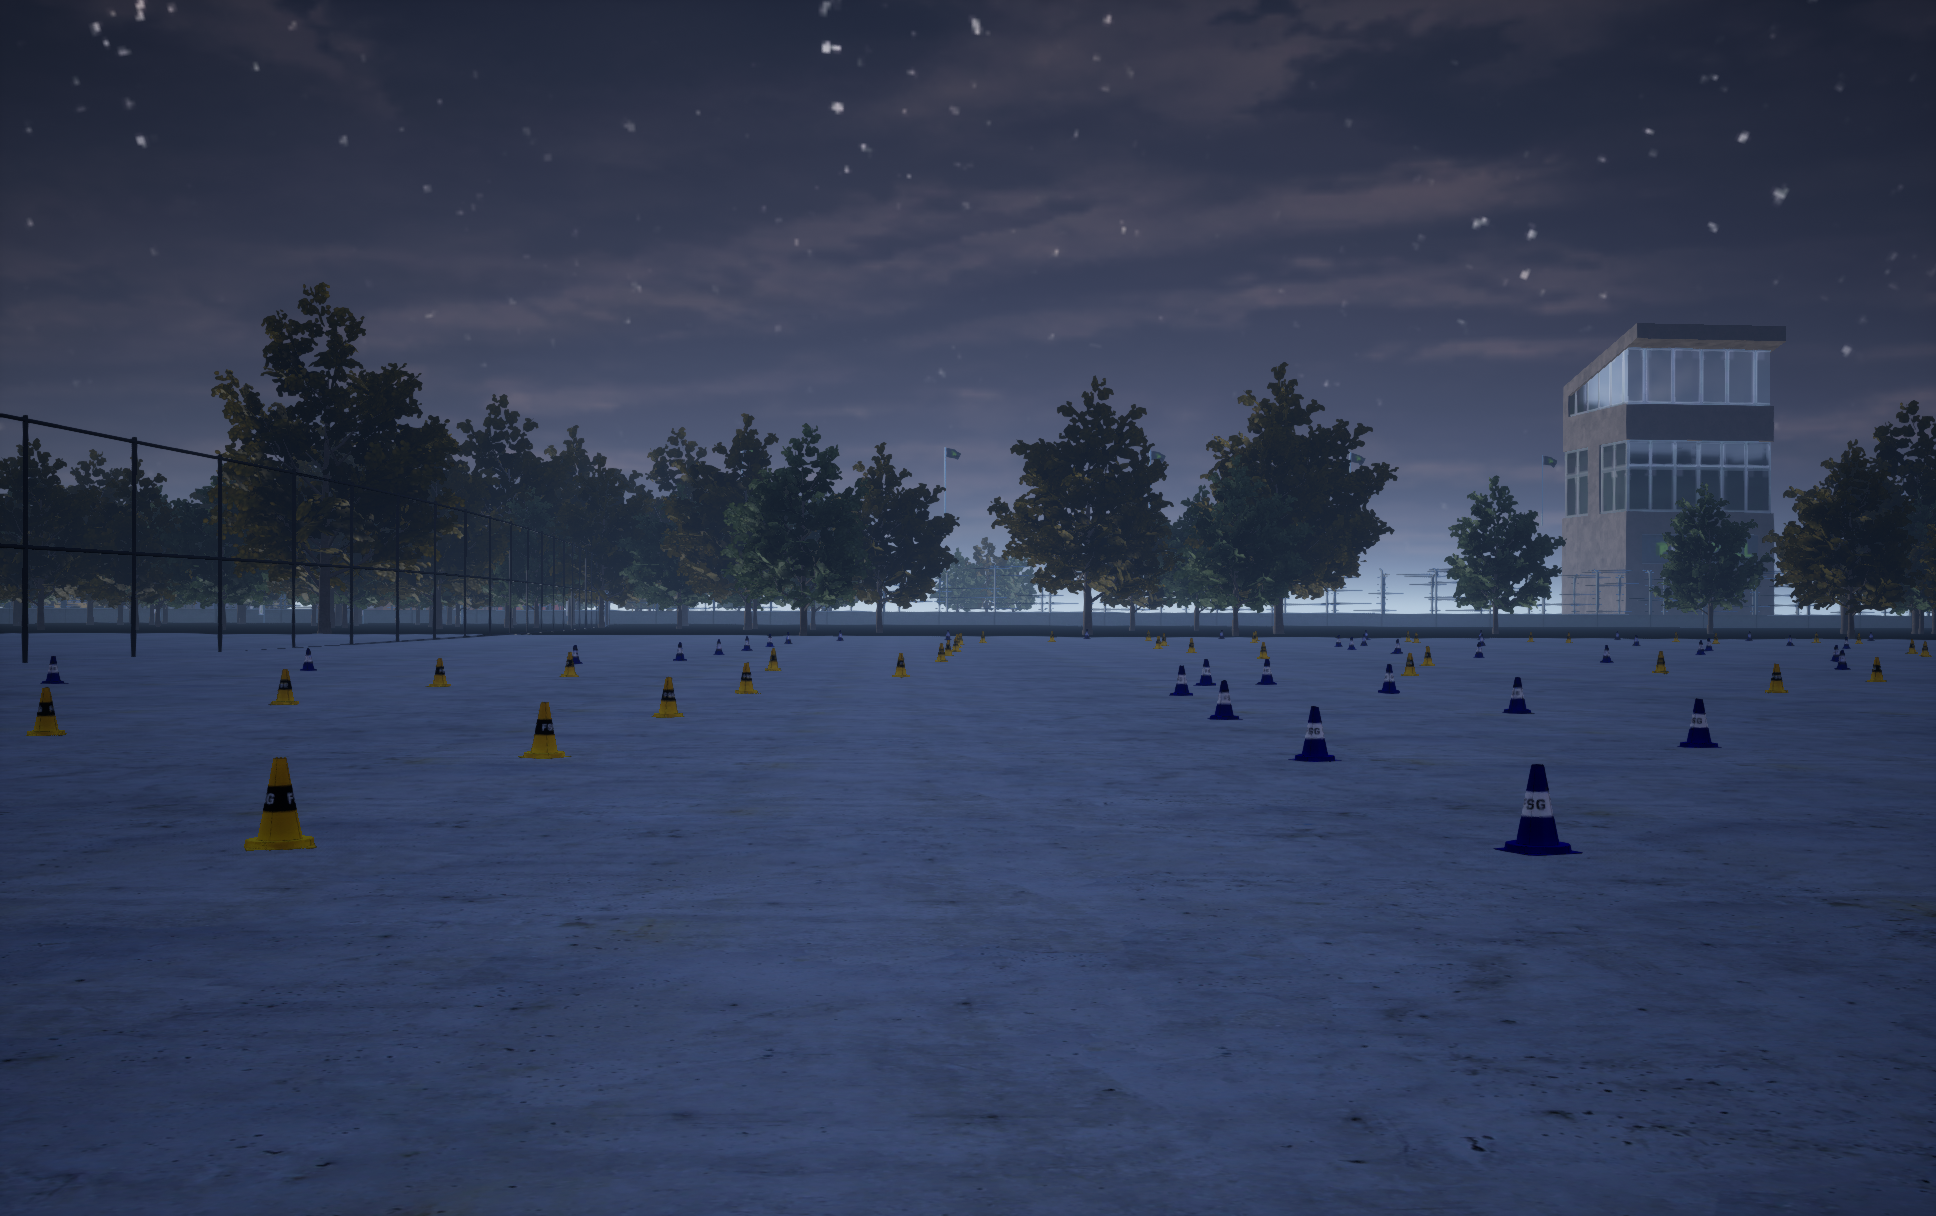blue: (244, 756, 317, 850), (518, 702, 572, 758), (27, 686, 66, 735), (651, 677, 684, 717), (268, 670, 298, 705), (735, 663, 761, 693), (424, 658, 450, 686), (1765, 663, 1788, 692), (1865, 657, 1886, 681), (559, 651, 579, 677), (892, 653, 909, 677), (1401, 653, 1418, 675), (765, 649, 782, 670), (1652, 651, 1668, 672), (1419, 646, 1434, 665), (934, 643, 947, 661)
yellow: (1493, 764, 1582, 855), (1287, 706, 1341, 761), (1677, 698, 1722, 747), (1208, 679, 1243, 719), (1502, 677, 1534, 713), (41, 656, 69, 684), (1168, 665, 1192, 695), (1378, 664, 1399, 693), (1194, 658, 1215, 685), (1255, 658, 1276, 684), (300, 649, 317, 670), (1834, 650, 1851, 670), (672, 642, 686, 660)
